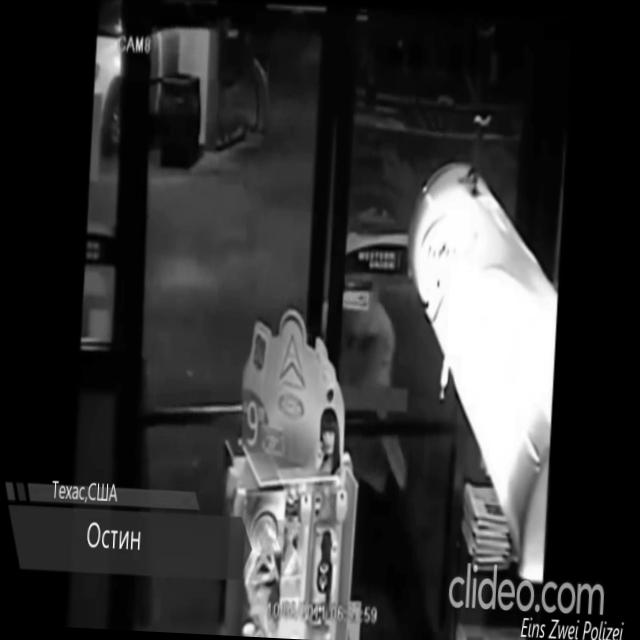person: (285, 229, 460, 640)
